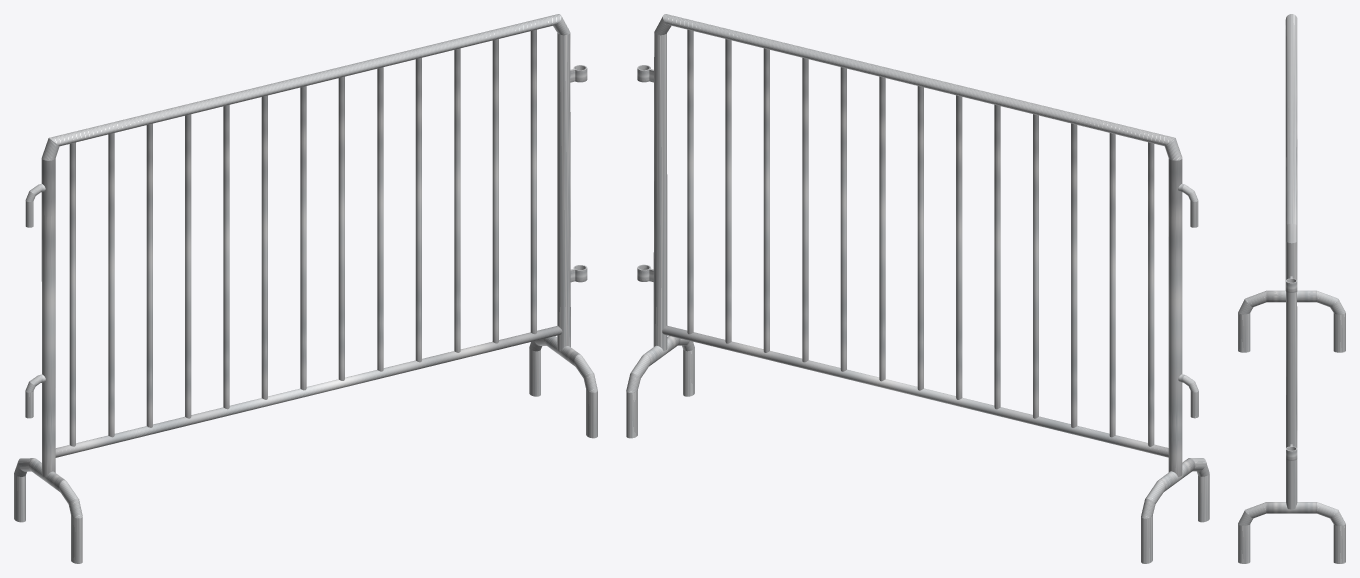
The model's file is Barrera.obj.
The picture shows the model from 3 angles, left to right: view 1: azimuth 30°, elevation 25°; view 2: azimuth 150°, elevation 25°; view 3: azimuth 270°, elevation 25°; orthographic projection. The views are drawn at different scales.
Visible parts, largest first — view 1: Cylinder.003; view 2: Cylinder.003; view 3: Cylinder.003.
Part boxes in pixels (bbox=[...]): Cylinder.003: bbox=[14, 14, 597, 563]; Cylinder.003: bbox=[626, 14, 1209, 563]; Cylinder.003: bbox=[1238, 14, 1345, 563].
Size of the model in its own units: 11.66 by 7.98 by 2.31.
5 materials, 5 textured.
